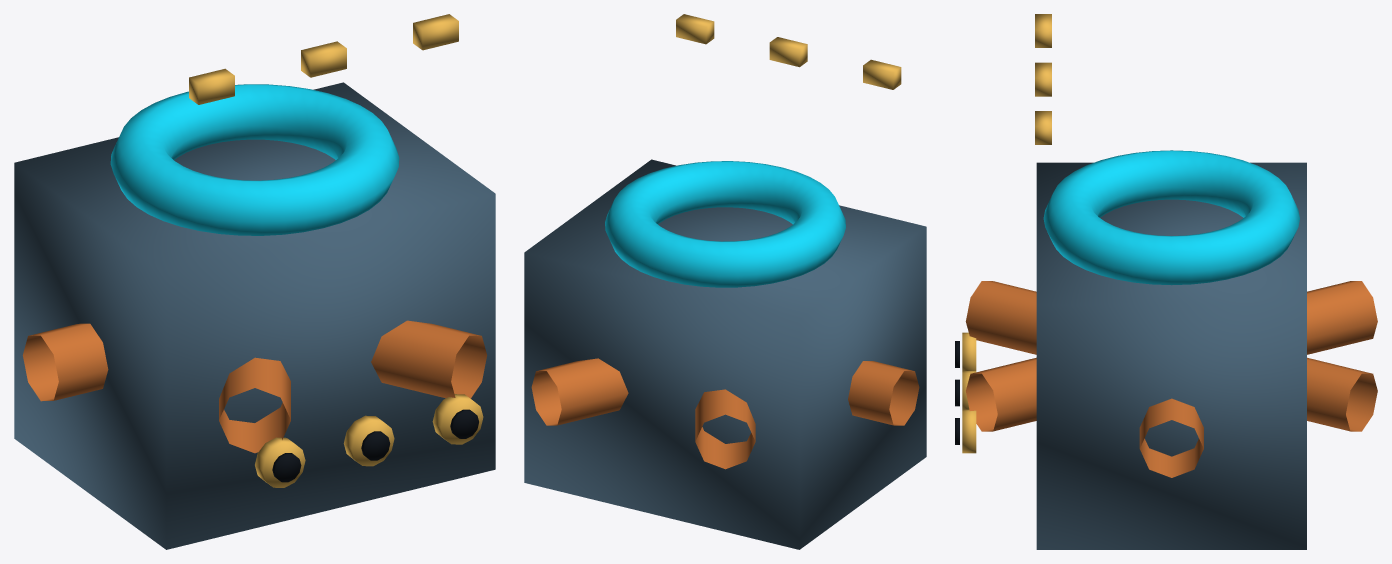
Rendered from 59_L93_AnalyticalVacuumPressureTransducer.fbx.
The picture shows the model from 3 angles, left to right: view 1: azimuth 30°, elevation 25°; view 2: azimuth 150°, elevation 25°; view 3: azimuth 270°, elevation 25°; orthographic projection. The views are drawn at different scales.
Parts seen in each view (by area): view 1: L92_AnalyticalVacuumPressureTransducer_Part_0000, L92_AnalyticalVacuumPressureTransducer_Part_0002, L92_AnalyticalVacuumPressureTransducer_Part_0001, L92_AnalyticalVacuumPressureTransducer_Part_0003, L92_AnalyticalVacuumPressureTransducer_Part_0006, L92_AnalyticalVacuumPressureTransducer_Part_0004, L92_AnalyticalVacuumPressureTransducer_Part_0008, L92_AnalyticalVacuumPressureTransducer_Part_0009, L92_AnalyticalVacuumPressureTransducer_Part_0007, L92_AnalyticalVacuumPressureTransducer_Part_0005; view 2: L92_AnalyticalVacuumPressureTransducer_Part_0000, L92_AnalyticalVacuumPressureTransducer_Part_0002, L92_AnalyticalVacuumPressureTransducer_Part_0001, L92_AnalyticalVacuumPressureTransducer_Part_0003; view 3: L92_AnalyticalVacuumPressureTransducer_Part_0000, L92_AnalyticalVacuumPressureTransducer_Part_0002, L92_AnalyticalVacuumPressureTransducer_Part_0001, L92_AnalyticalVacuumPressureTransducer_Part_0003, L92_AnalyticalVacuumPressureTransducer_Part_0008, L92_AnalyticalVacuumPressureTransducer_Part_0004.
Boxes of the visible parts, bbox=[...] form: L92_AnalyticalVacuumPressureTransducer_Part_0000: bbox=[14, 82, 495, 549]; L92_AnalyticalVacuumPressureTransducer_Part_0002: bbox=[110, 84, 399, 235]; L92_AnalyticalVacuumPressureTransducer_Part_0001: bbox=[22, 320, 487, 453]; L92_AnalyticalVacuumPressureTransducer_Part_0003: bbox=[189, 14, 458, 104]; L92_AnalyticalVacuumPressureTransducer_Part_0006: bbox=[343, 415, 394, 466]; L92_AnalyticalVacuumPressureTransducer_Part_0004: bbox=[255, 437, 305, 487]; L92_AnalyticalVacuumPressureTransducer_Part_0008: bbox=[432, 394, 483, 444]; L92_AnalyticalVacuumPressureTransducer_Part_0009: bbox=[450, 409, 478, 438]; L92_AnalyticalVacuumPressureTransducer_Part_0007: bbox=[361, 431, 390, 460]; L92_AnalyticalVacuumPressureTransducer_Part_0005: bbox=[272, 453, 301, 482]; L92_AnalyticalVacuumPressureTransducer_Part_0000: bbox=[524, 159, 926, 549]; L92_AnalyticalVacuumPressureTransducer_Part_0002: bbox=[605, 161, 845, 287]; L92_AnalyticalVacuumPressureTransducer_Part_0001: bbox=[531, 358, 919, 469]; L92_AnalyticalVacuumPressureTransducer_Part_0003: bbox=[676, 14, 901, 89]; L92_AnalyticalVacuumPressureTransducer_Part_0000: bbox=[1036, 162, 1306, 549]; L92_AnalyticalVacuumPressureTransducer_Part_0002: bbox=[1043, 150, 1299, 285]; L92_AnalyticalVacuumPressureTransducer_Part_0001: bbox=[965, 281, 1377, 477]; L92_AnalyticalVacuumPressureTransducer_Part_0003: bbox=[1035, 14, 1051, 144]; L92_AnalyticalVacuumPressureTransducer_Part_0008: bbox=[962, 409, 976, 453]; L92_AnalyticalVacuumPressureTransducer_Part_0004: bbox=[962, 332, 976, 370].
Size of the model in its own units: 130 by 133 by 125.
